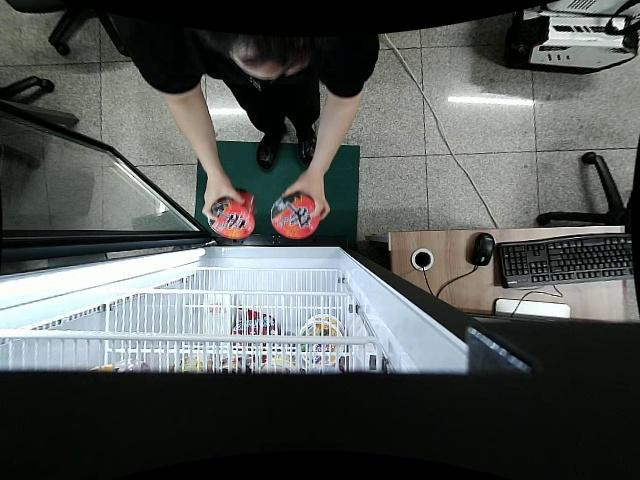00_hand: (283, 176, 331, 221), (203, 177, 246, 221)
01_shinRamen_L: (207, 189, 257, 241), (269, 190, 319, 239)
